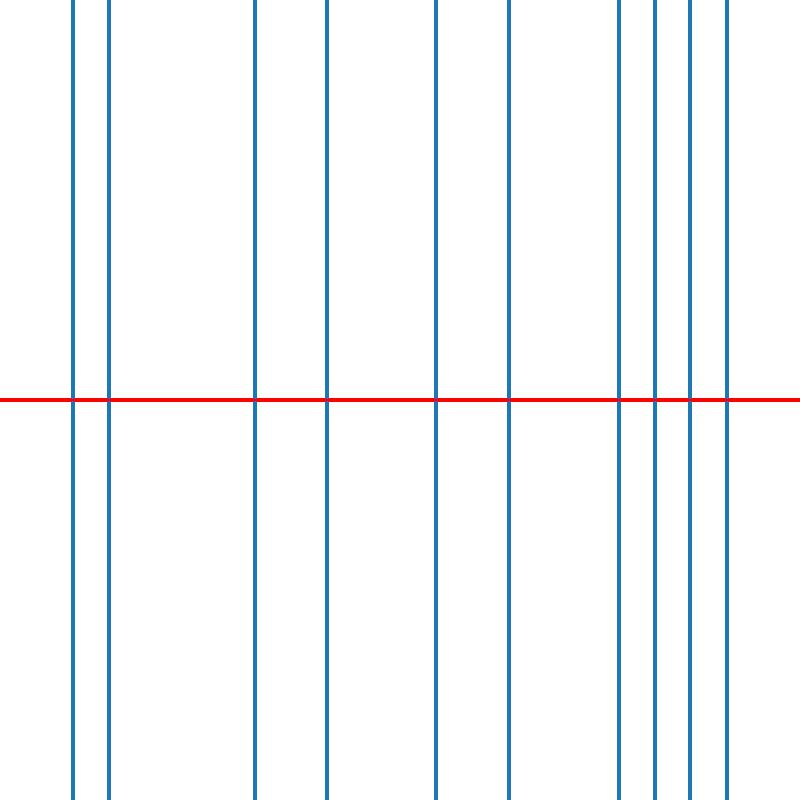root: (432, 396, 440, 404), (650, 396, 658, 404), (250, 396, 258, 404), (505, 396, 512, 404), (614, 396, 621, 404), (69, 396, 76, 404), (323, 396, 330, 404), (723, 396, 730, 404), (687, 396, 694, 404), (105, 396, 112, 404)
